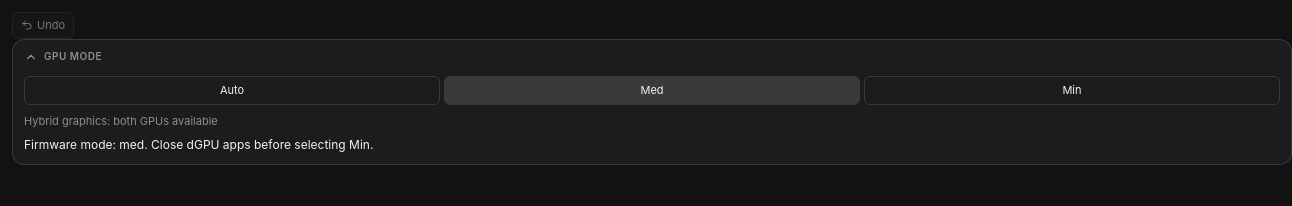
Test: does not record a change that fails or selects the current value
What coordinates should you click on to do the following:
click the button "Min"
I would click on:
 (1072, 90)
Its box is top-left (864, 76), bottom-right (1280, 104).
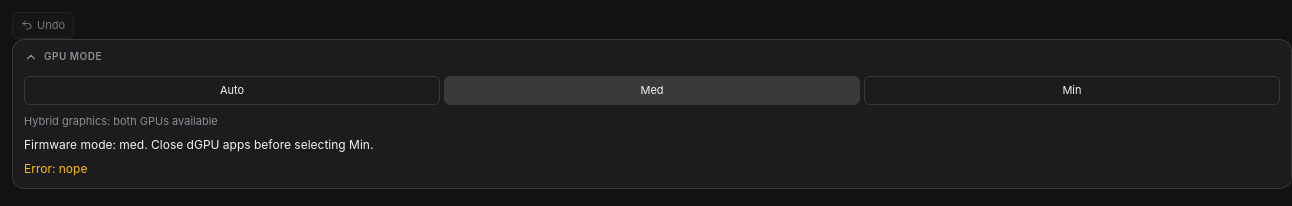
Check: the message "Error: nope" is shown, box top-left (24, 161), bottom-right (87, 176)
